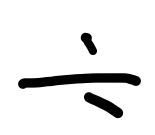div: (14, 32, 142, 117)
